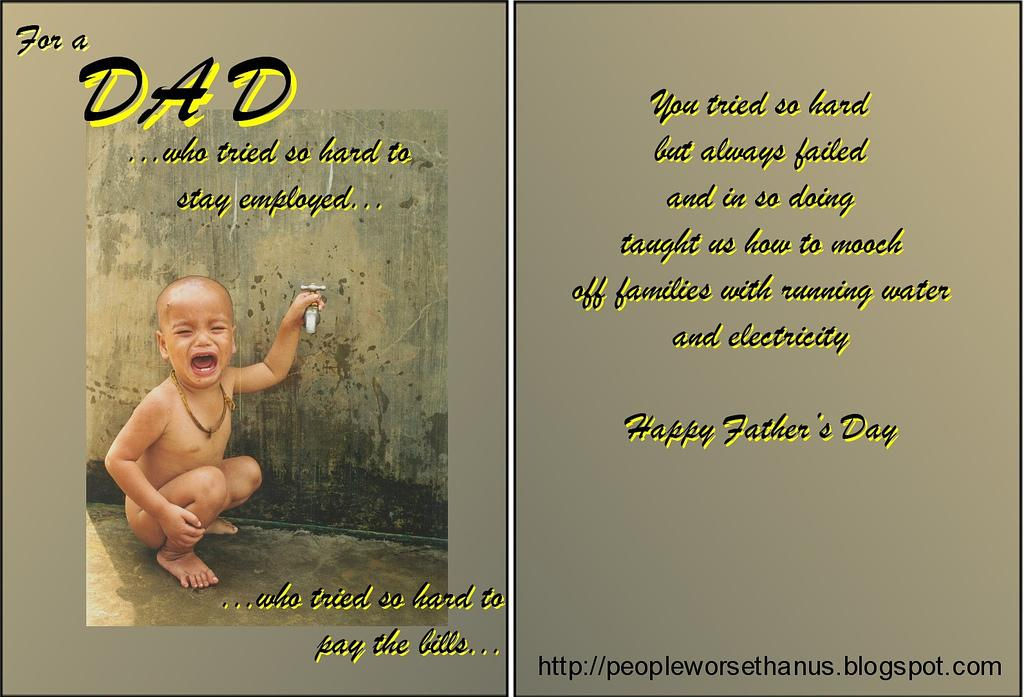face: (166, 290, 232, 386)
